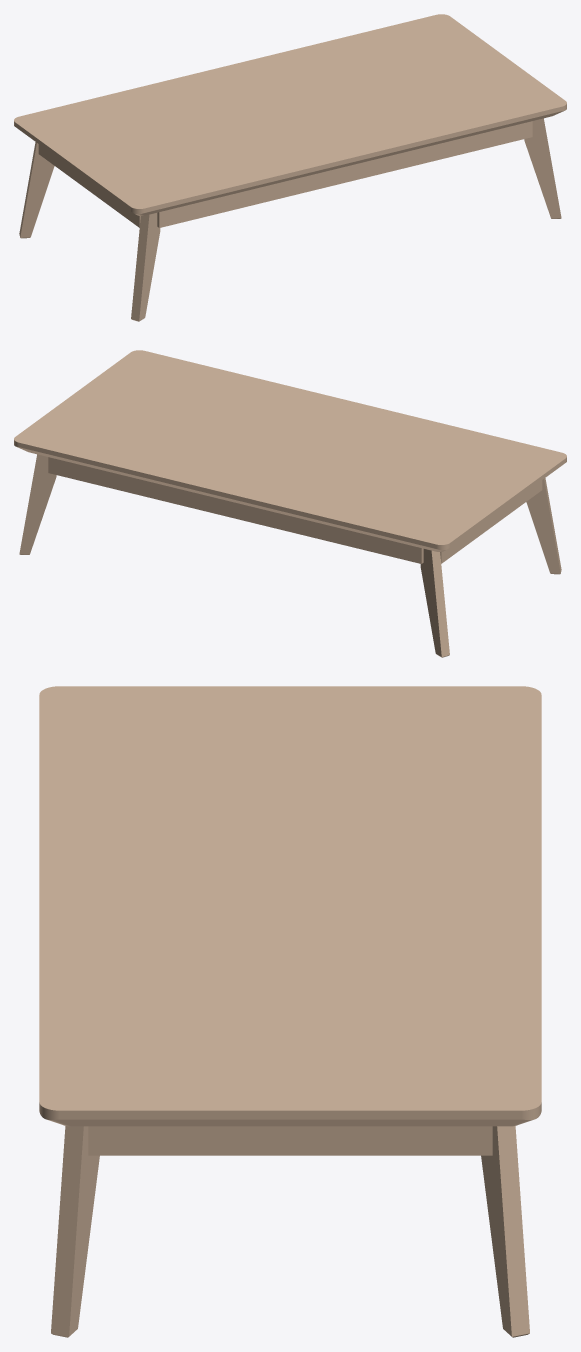
The model's file is ローテーブル_木.fbx.
3 views of the same model, one above another, from view 1: azimuth 30°, elevation 25°; view 2: azimuth 150°, elevation 25°; view 3: azimuth 270°, elevation 25° (orthographic). The views are drawn at different scales.
Parts seen in each view (by area): view 1: Body1; view 2: Body1; view 3: Body1.
Boxes of the visible parts, left/top/right/bottom form: Body1: left=14, top=14, right=566, bottom=321; Body1: left=14, top=350, right=566, bottom=657; Body1: left=39, top=686, right=541, bottom=1337.
Bounding box in the file's own units: 150 × 38 × 75.
